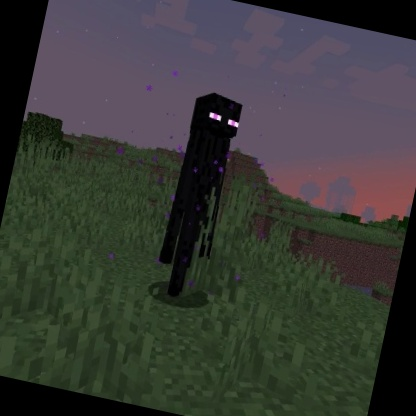enderman: (147, 85, 248, 306)
